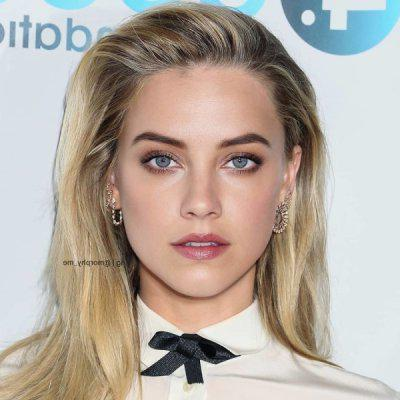Sober: (125, 66, 280, 289)
